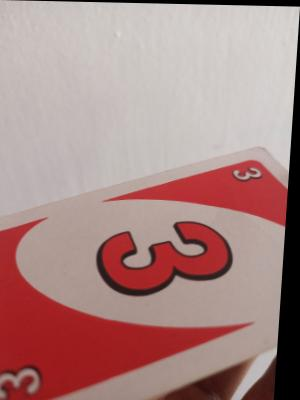num_3: (0, 360, 55, 400)
